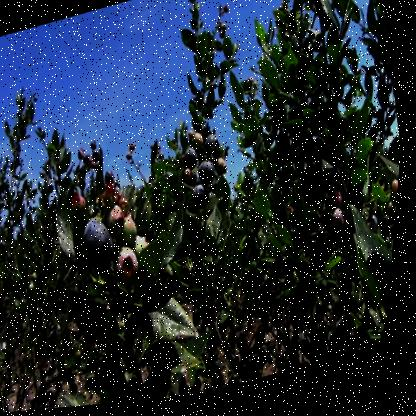intermediate: (103, 186, 123, 210)
mature: (84, 216, 125, 273), (194, 185, 216, 214), (207, 136, 226, 166), (200, 166, 222, 191), (185, 150, 202, 172), (324, 211, 338, 234)
young: (116, 247, 144, 289), (108, 210, 132, 243), (124, 218, 145, 247), (334, 213, 351, 241), (391, 184, 402, 215), (195, 134, 208, 153), (184, 172, 197, 189)
